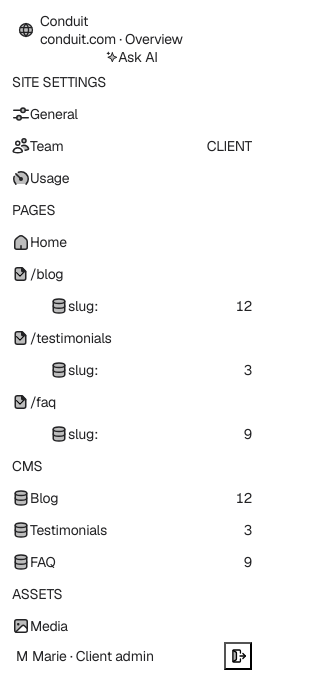
Test case: ShellSidebar › le chevron replie la page article
What coordinates should you click on to do the following:
click the button named "Hide /blog pages"
I would click on:
 (20, 274)
Its box is top-left (12, 258), bottom-right (28, 290).
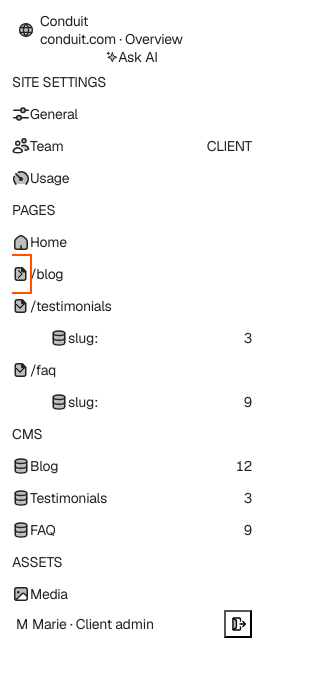
Now the link to "/admin/pages/blog/slug/seo" is gone
Now the button named "Show /blog pages" is collapsed, box top-left (12, 258), bottom-right (28, 290)
